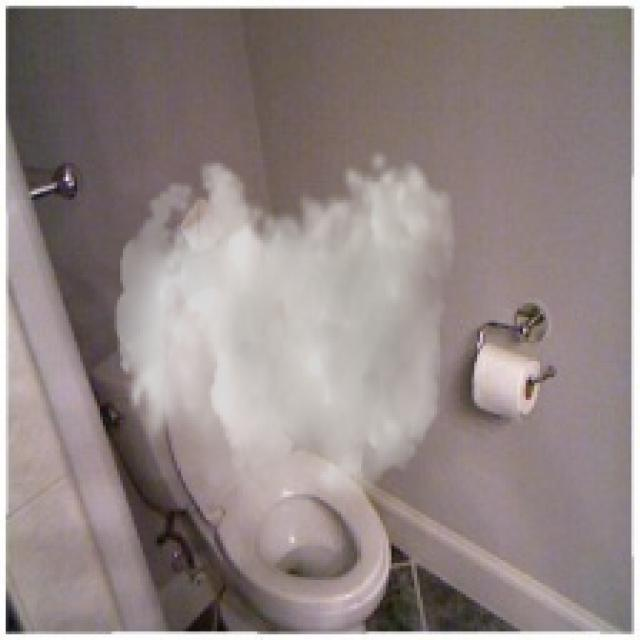Smoke: (114, 148, 457, 552)
